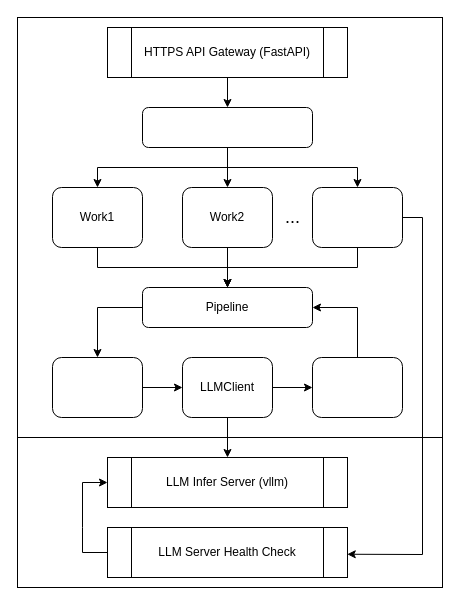
This 460x605 diagram has some shape labels left out. The shapes that lost their labels are listed below. From the top down, each one's centre as x and y in pixels, then its label:
pixel 227 127: Queue Manager
pixel 357 217: WorkN
pixel 97 387: Preprocessor
pixel 357 387: Postprocessor
